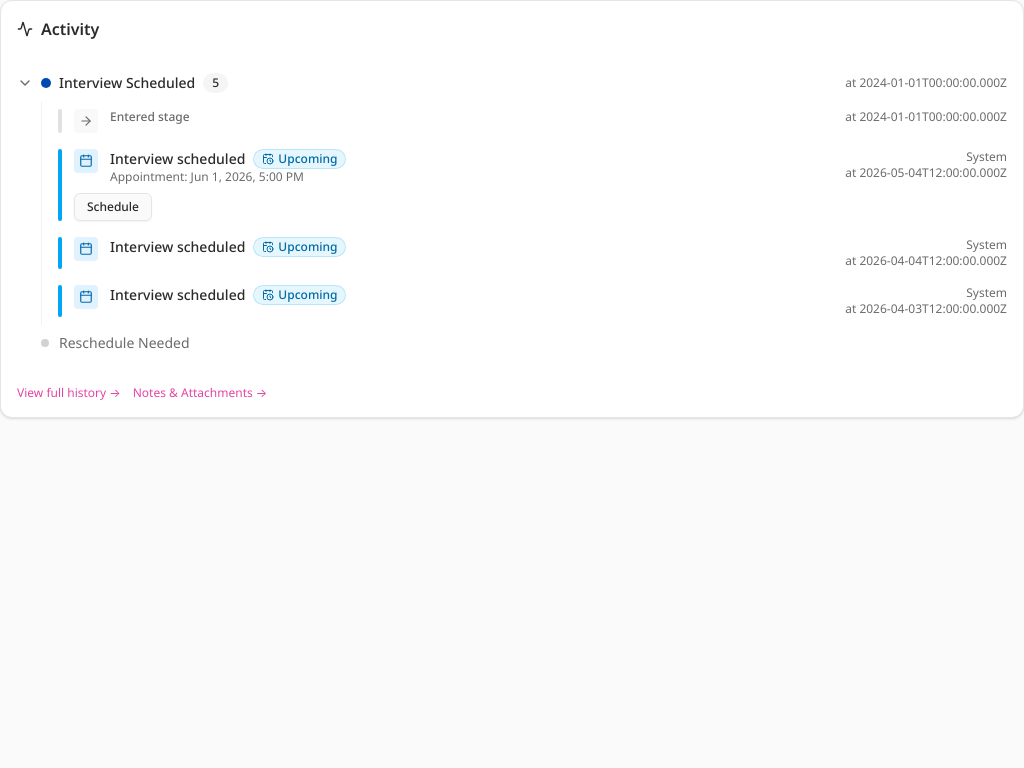
Test: ActivityTimeline › keeps the appointment action on the latest scheduling entry after interview_scheduled
Expected: the text "Appointment: Jun 1, 2026, 5:00 PM" is shown, [110, 168, 304, 185]
Click the button "Schedule" at (113, 207), box [74, 193, 152, 221]
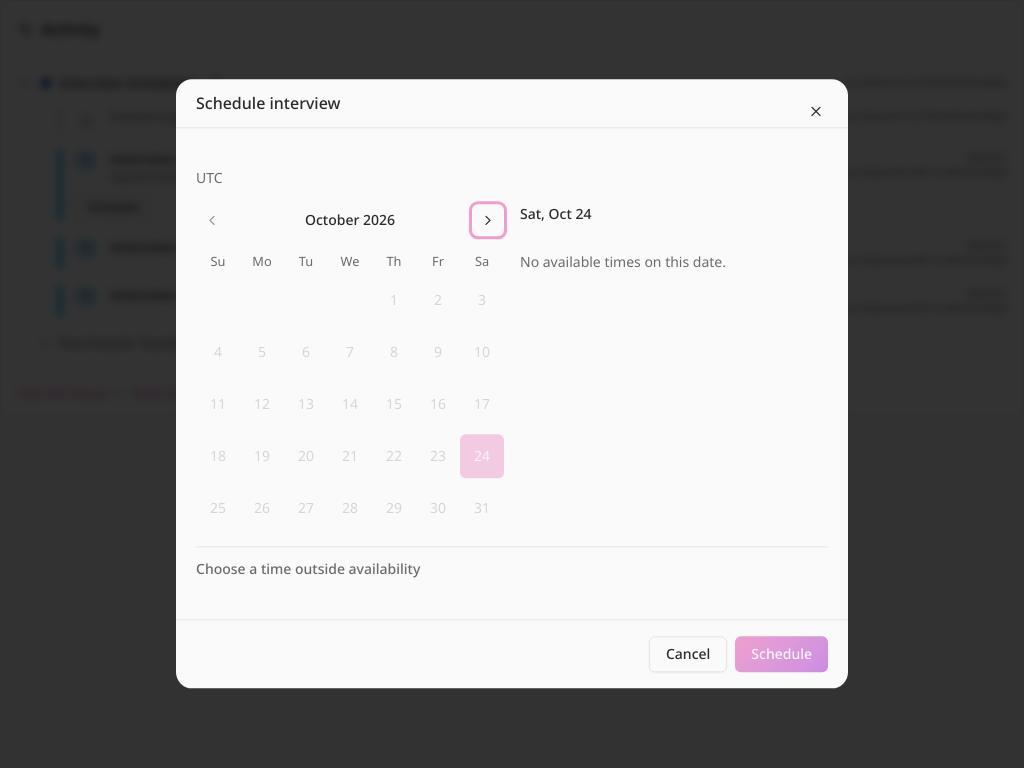
Now the dialog "Schedule interview" is shown, box [176, 79, 848, 689]
